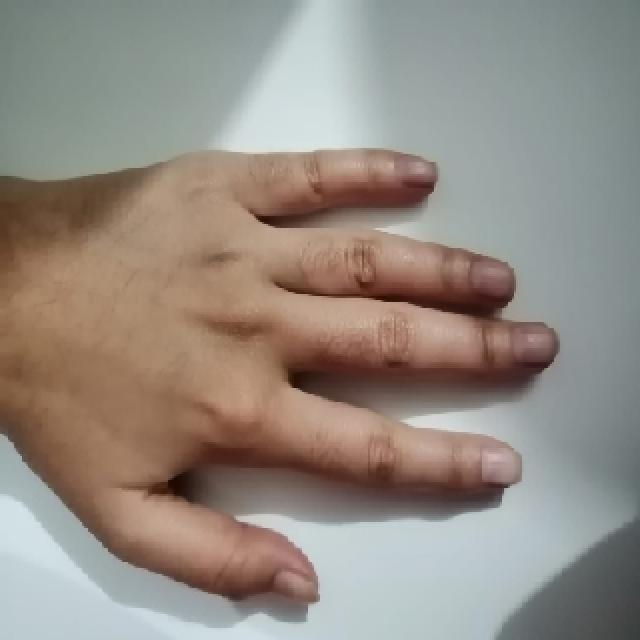Nail: (506, 327, 558, 363), (473, 261, 517, 301), (272, 569, 320, 605), (479, 448, 523, 487), (395, 161, 437, 187)
